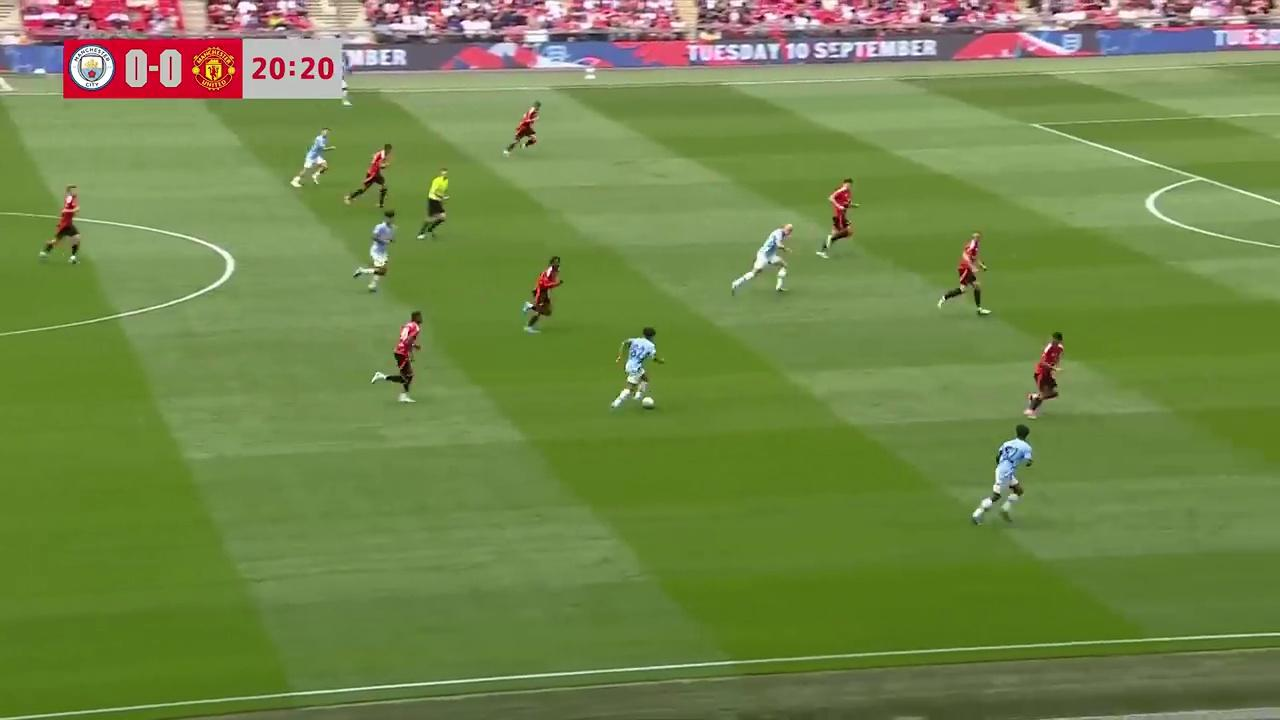ball: (641, 393, 655, 409)
player: (970, 424, 1034, 526), (610, 328, 664, 412), (375, 310, 423, 402), (731, 224, 791, 297), (937, 232, 989, 316), (351, 211, 395, 292), (38, 184, 81, 265), (818, 177, 860, 256), (1026, 332, 1064, 417), (345, 143, 394, 207), (522, 256, 562, 331), (502, 102, 540, 156), (291, 133, 328, 188), (338, 64, 352, 107)
referee: (418, 168, 449, 240)
